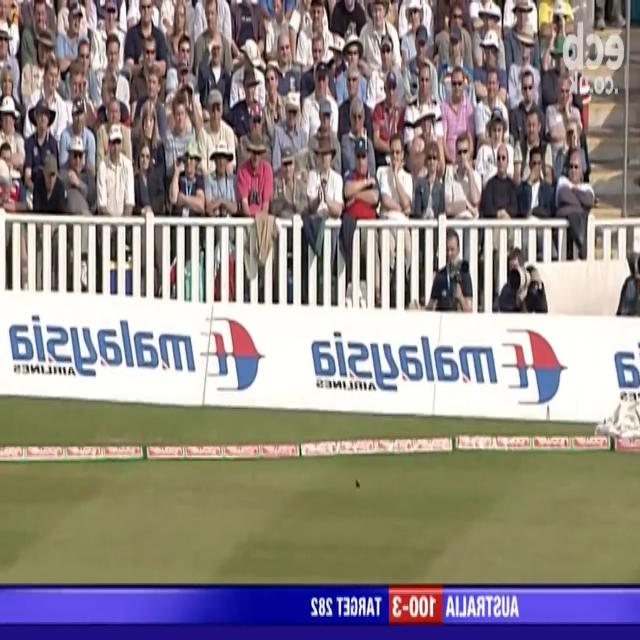ball: (350, 476, 362, 494)
